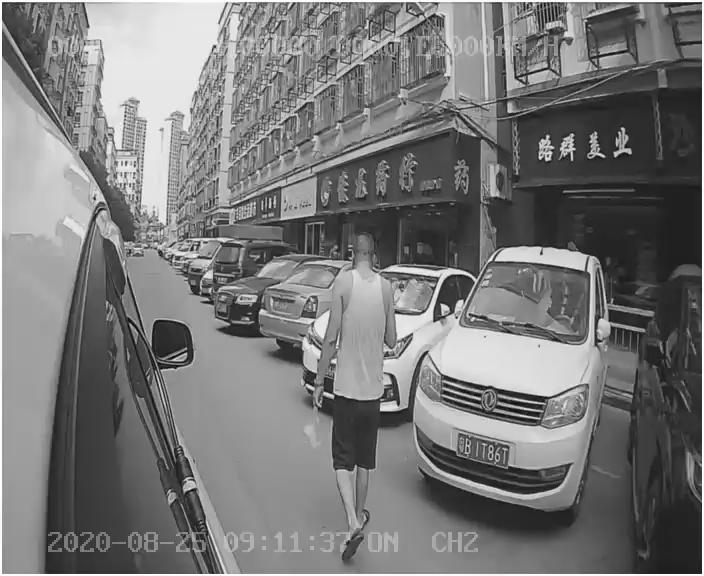person: (307, 230, 402, 525)
